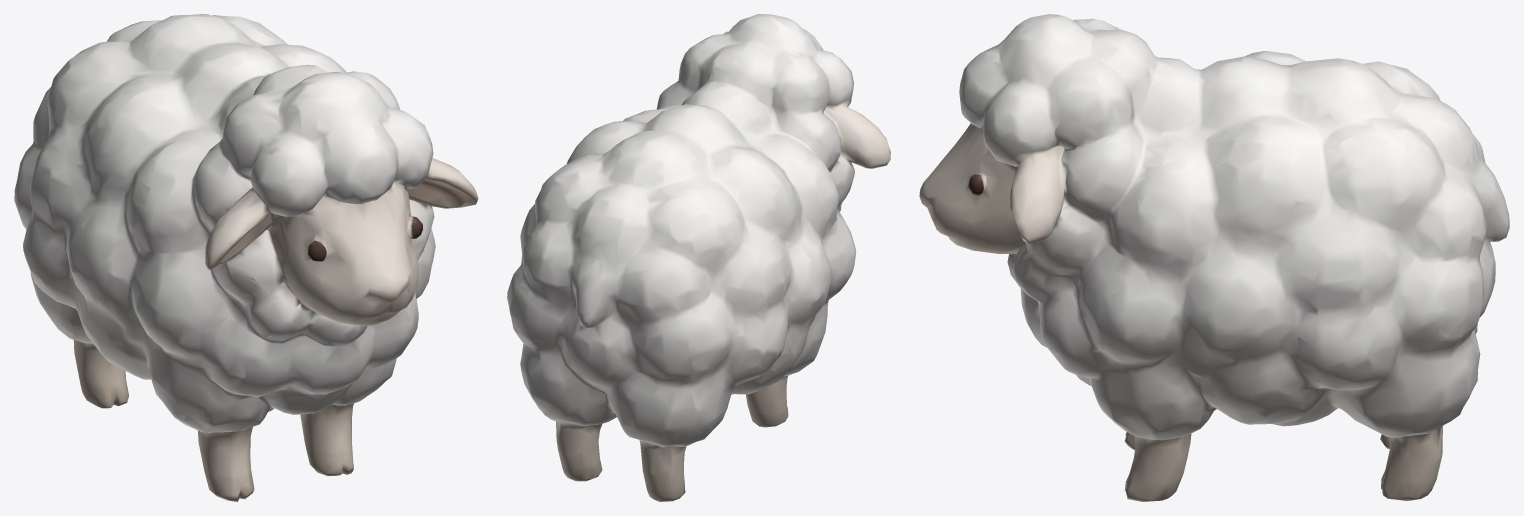
Rendered from sheep.glb.
The picture shows the model from 3 angles, left to right: view 1: azimuth 30°, elevation 25°; view 2: azimuth 150°, elevation 25°; view 3: azimuth 270°, elevation 25°; orthographic projection. The views are drawn at different scales.
Visible parts, largest first — view 1: tripo_node_9369c848-4862-464d-ab0c-3afc4c13d9a7; view 2: tripo_node_9369c848-4862-464d-ab0c-3afc4c13d9a7; view 3: tripo_node_9369c848-4862-464d-ab0c-3afc4c13d9a7.
Boxes of the visible parts, x1,y1,x2,y2 form: tripo_node_9369c848-4862-464d-ab0c-3afc4c13d9a7: [14, 14, 478, 501]; tripo_node_9369c848-4862-464d-ab0c-3afc4c13d9a7: [507, 14, 890, 501]; tripo_node_9369c848-4862-464d-ab0c-3afc4c13d9a7: [919, 14, 1509, 501].
Bounding box in the file's own units: 0.6339 × 0.8429 × 1.
Materials: 1 (1 with a texture image).
